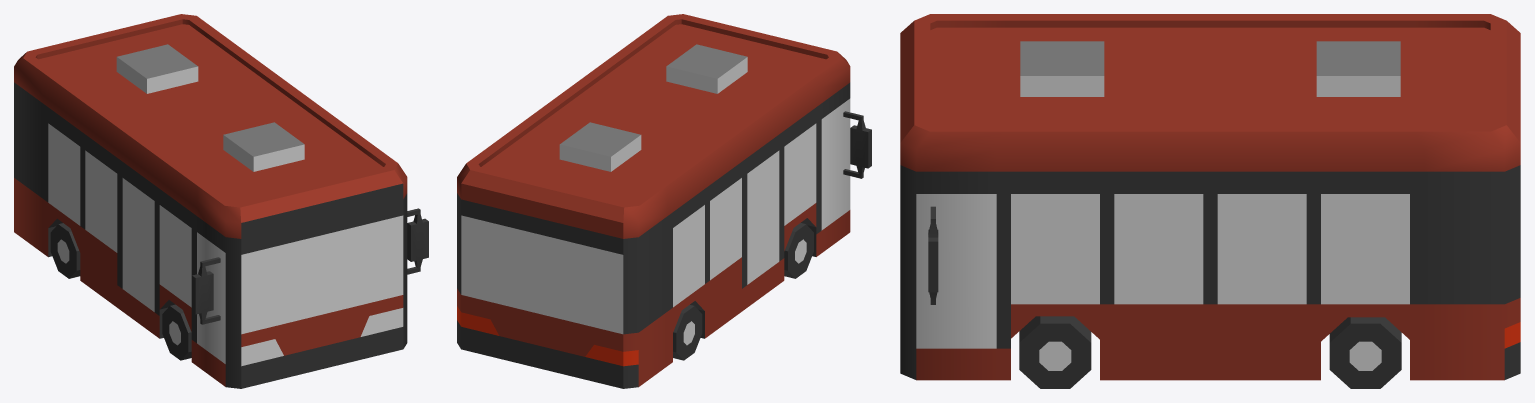
The model's file is bus.glb.
3 renders of one model, left to right at view 1: azimuth 30°, elevation 25°; view 2: azimuth 150°, elevation 25°; view 3: azimuth 270°, elevation 25°, orthographic. The views are drawn at different scales.
Parts seen in each view (by area): view 1: bus; view 2: bus; view 3: bus.
Boxes of the visible parts, x1,y1,x2,y2 form: bus: [14, 14, 428, 388]; bus: [457, 14, 871, 388]; bus: [900, 14, 1520, 388].
Size of the model in its own units: 1.79 by 1.41 by 2.96.
